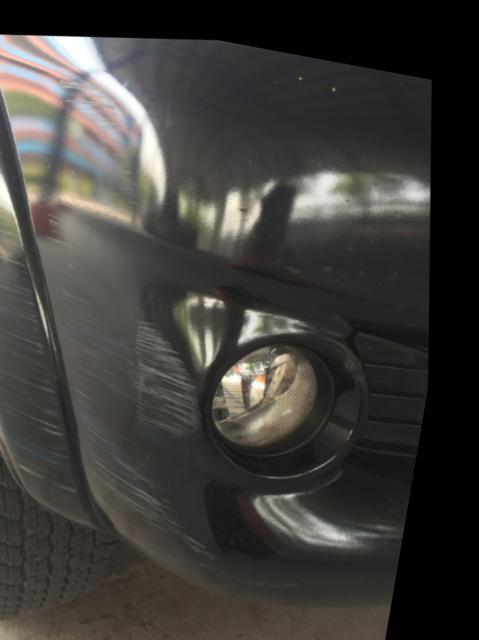rub: (50, 206, 307, 577), (0, 212, 92, 486)
scratch: (58, 71, 151, 196)
